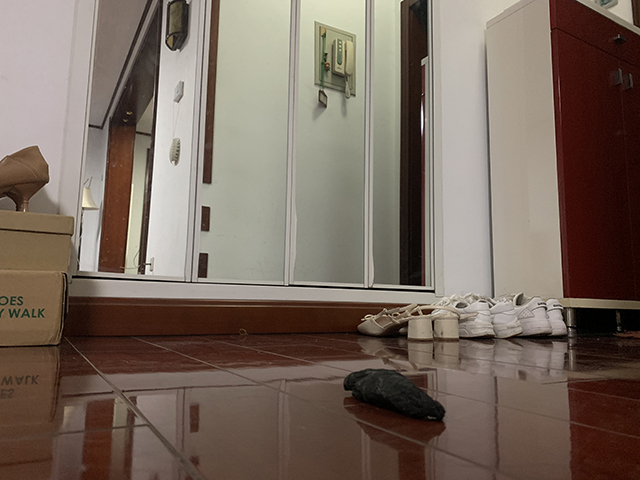cabinet: (486, 1, 640, 330)
feces: (343, 368, 447, 420)
